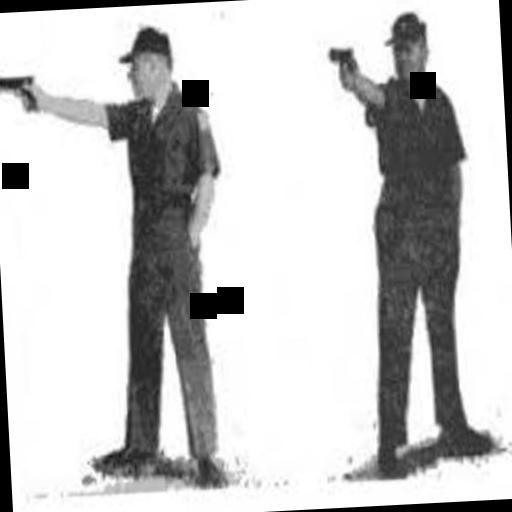Handgun: (0, 69, 41, 122), (325, 41, 363, 85)
